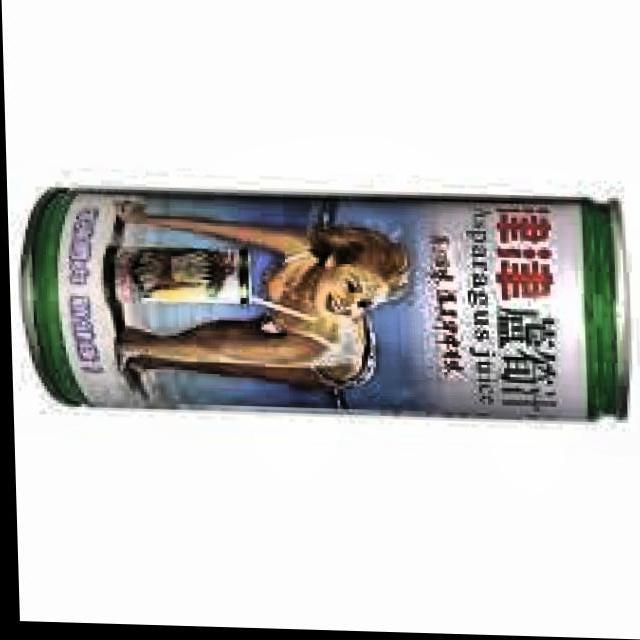Aluminum Can: (4, 172, 640, 432)
